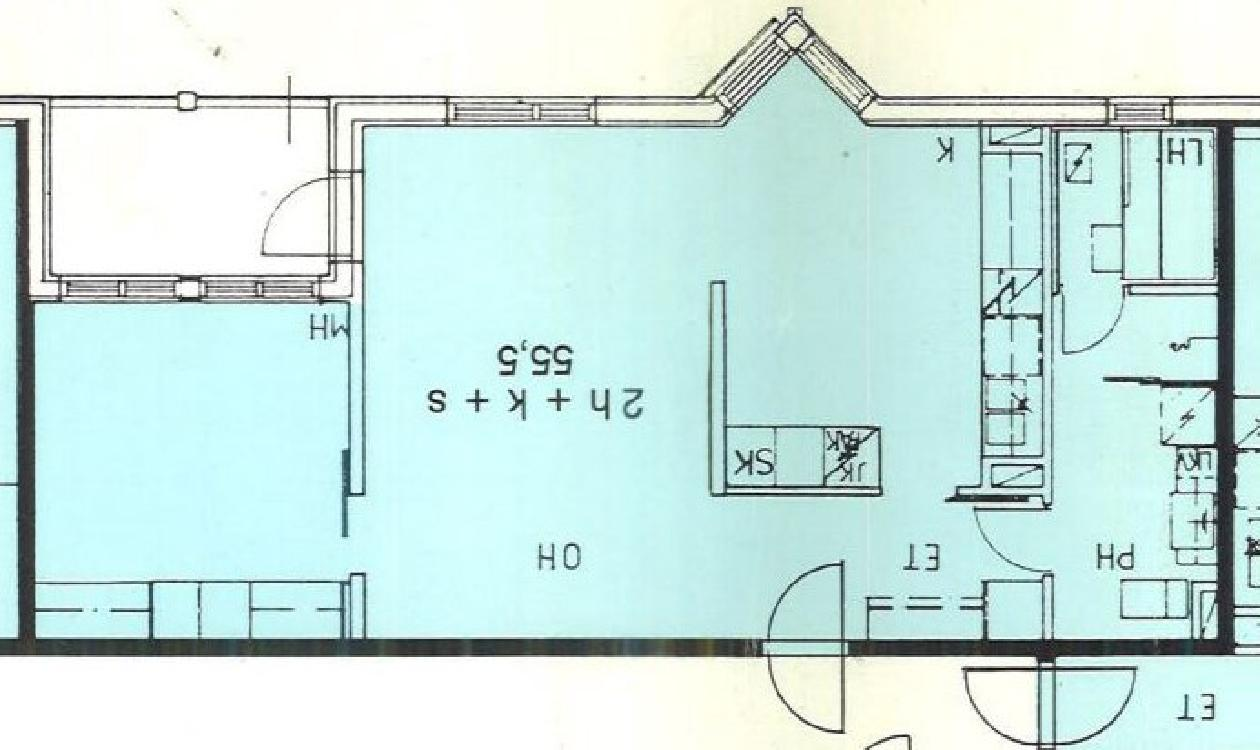door: (753, 553, 859, 743), (960, 665, 1146, 744), (244, 170, 351, 266), (967, 500, 1061, 582), (1059, 283, 1130, 360)
window: (774, 33, 881, 128), (706, 35, 795, 124), (449, 99, 595, 125), (64, 271, 180, 301), (201, 275, 316, 302), (1111, 100, 1169, 123)
zone: (357, 43, 1217, 638), (36, 303, 349, 640)
